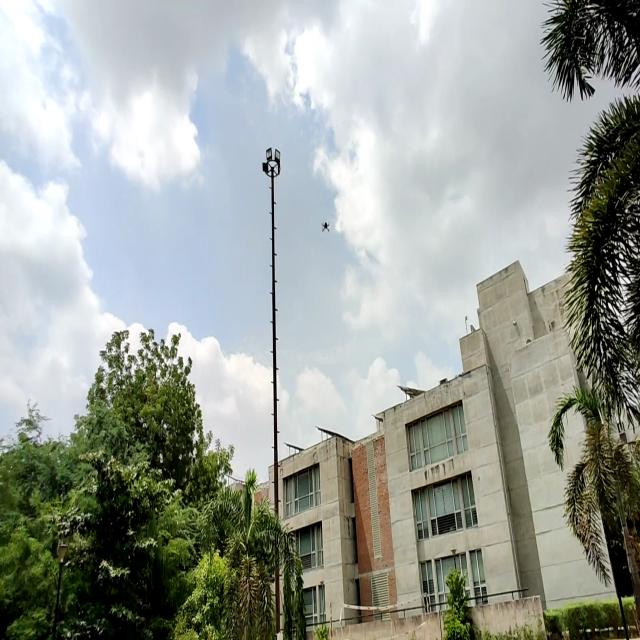drone: (318, 218, 332, 237)
